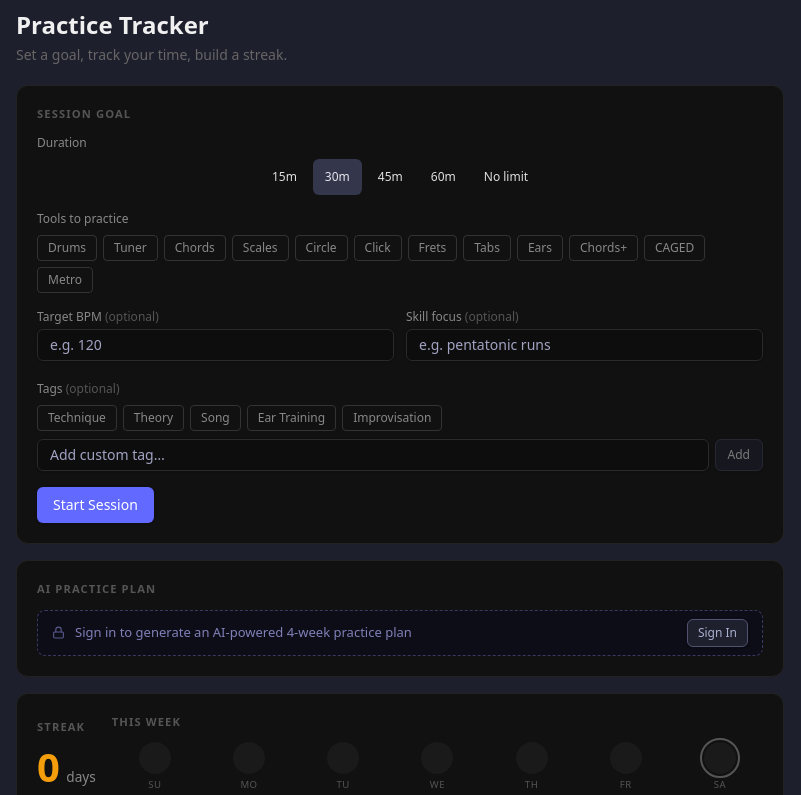
Test case: PracticeSessionPage component › transitions to active phase on Start Session click
The width and height of the screenshot is (801, 795).
Step 1. Click the button "Start Session" → (95, 505), box [37,487,154,523]
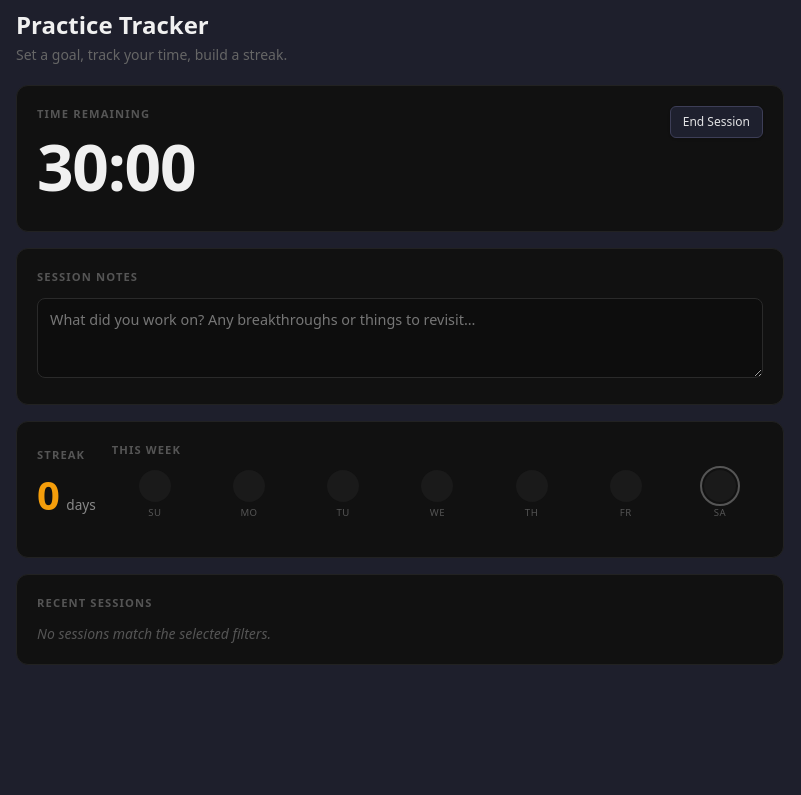
Expected: the button "End Session" is shown, [670,106,763,138]
